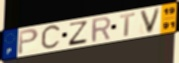C: (40, 23, 63, 52)
P: (17, 27, 40, 56)
R: (91, 16, 112, 44)
T: (119, 12, 137, 38)
V: (139, 6, 162, 35)
Z: (67, 20, 89, 47)
